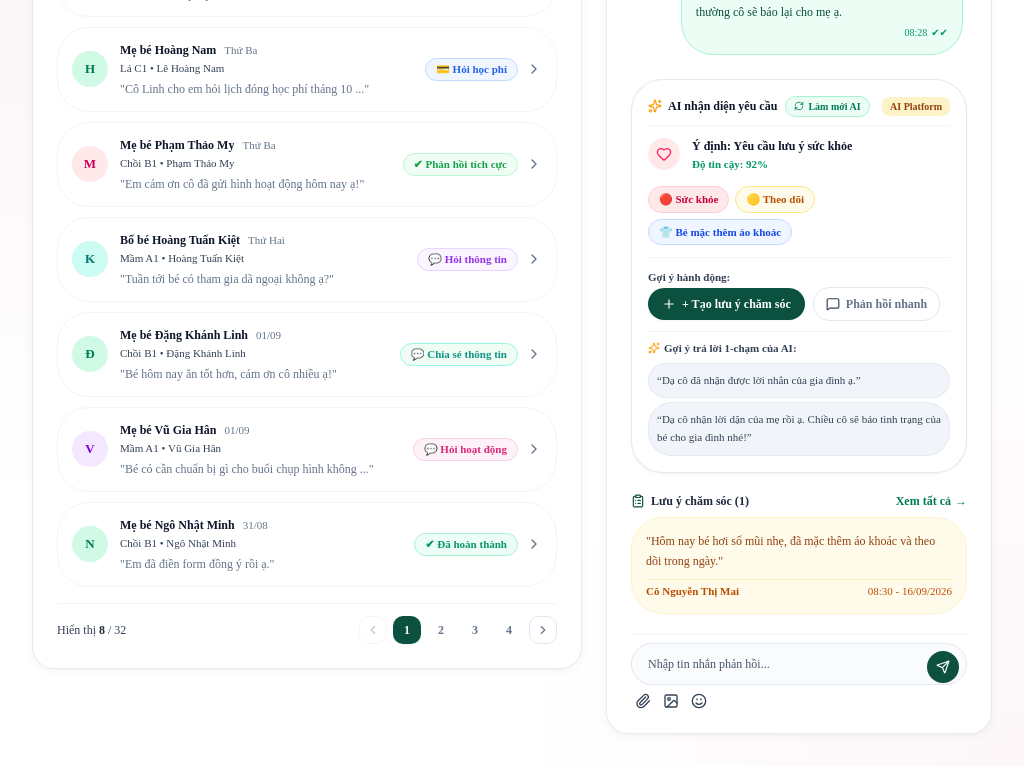
Test: Communication commands and tenant bulletin › retains reply without adding a sent message after click
(page scrolled)
Type "Synthetic unsent reply" into the field with placeholder "Nhập tin nhắn phản hồi...".
click(799, 664); type("Synthetic unsent reply")  # box left=631, top=643, right=967, bottom=685
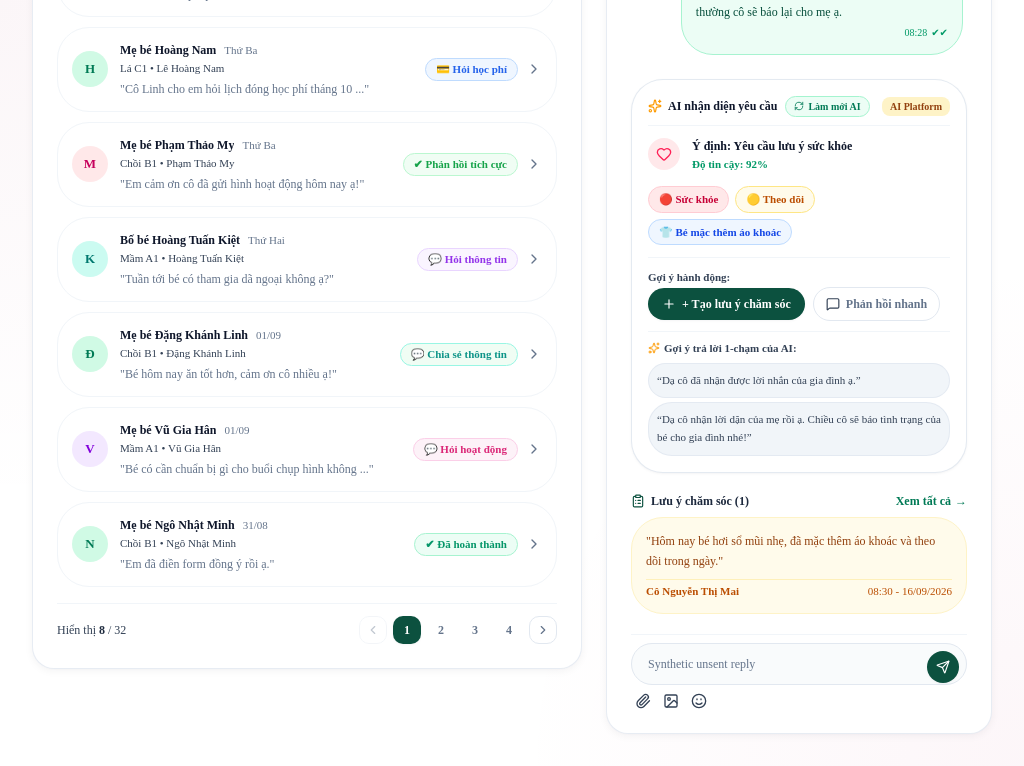
Click the button named "Gửi tin nhắn".
click(943, 667)  # box left=927, top=651, right=959, bottom=683
Wait 6000 ms
(page scrolled)
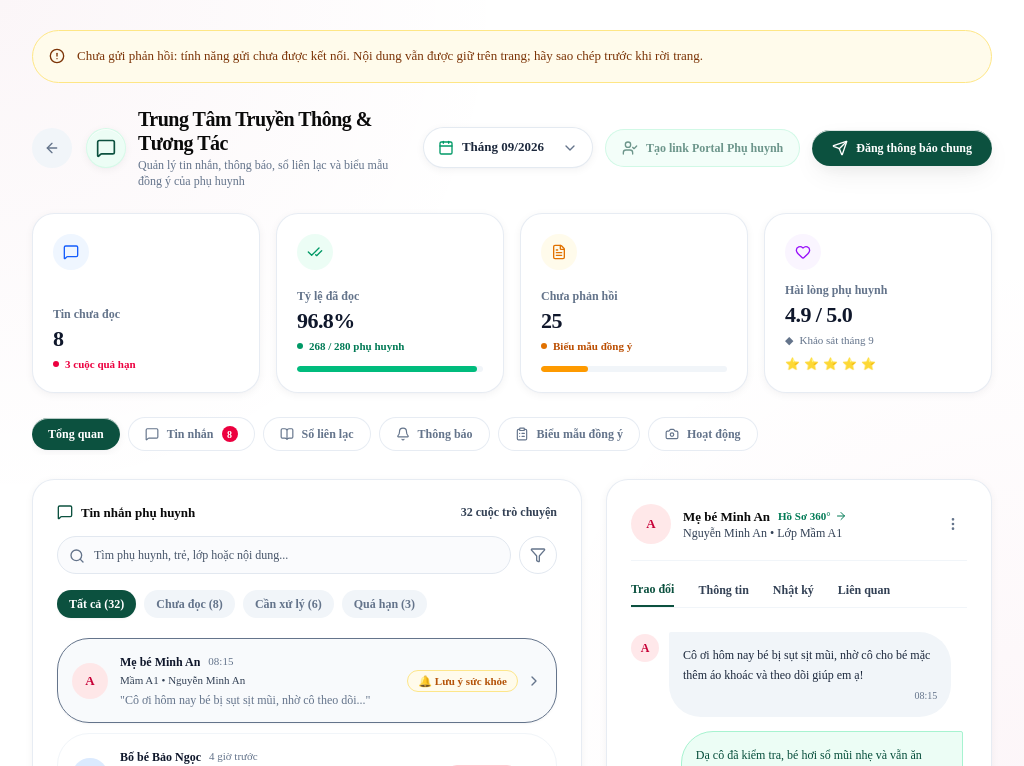
Check: the message does not show "thành công", box left=32, top=30, right=992, bottom=83
Check: the message shows "Chưa gửi phản hồi", box left=77, top=48, right=703, bottom=63
